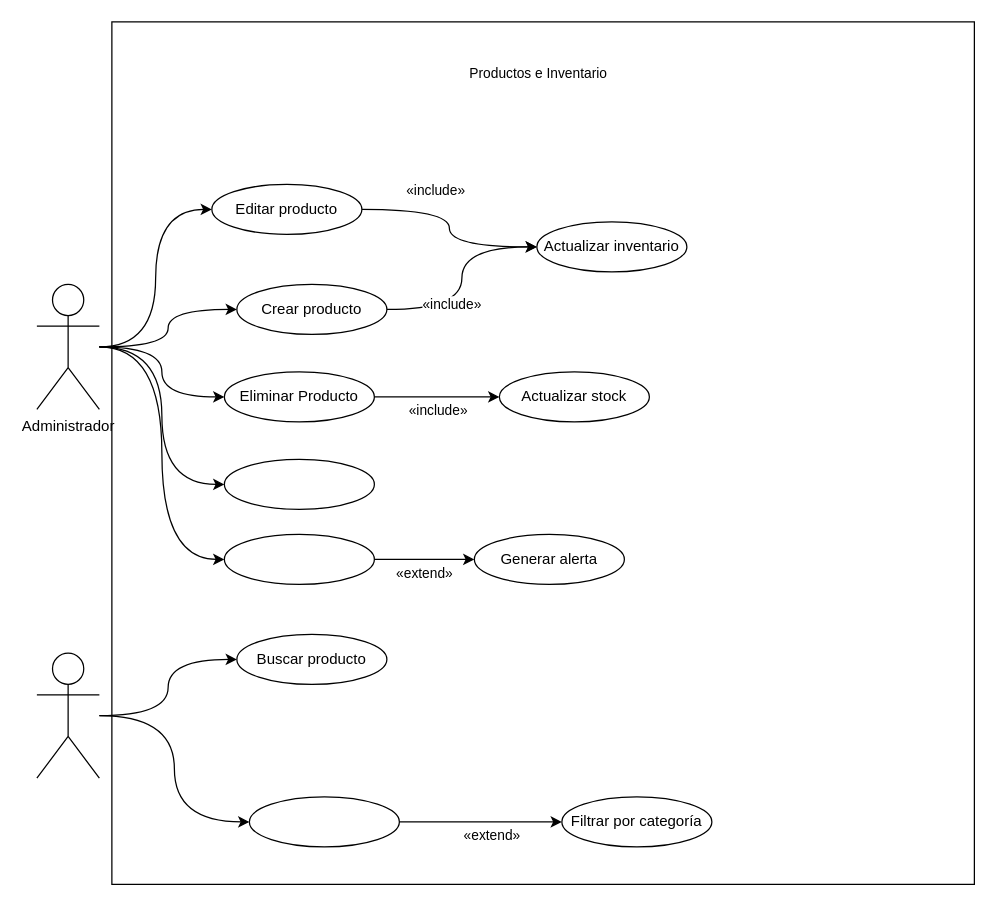
This 996x906 diagram has some shape labels left out. The centre of each missing label's shape, as x and y in pixels:
"Cliente" goes at pixel 67 715.
"Registrar movimiento" goes at pixel 298 483.
"Ver catalogo" goes at pixel 323 821.
"Ver stock Bajo" goes at pixel 298 558.
